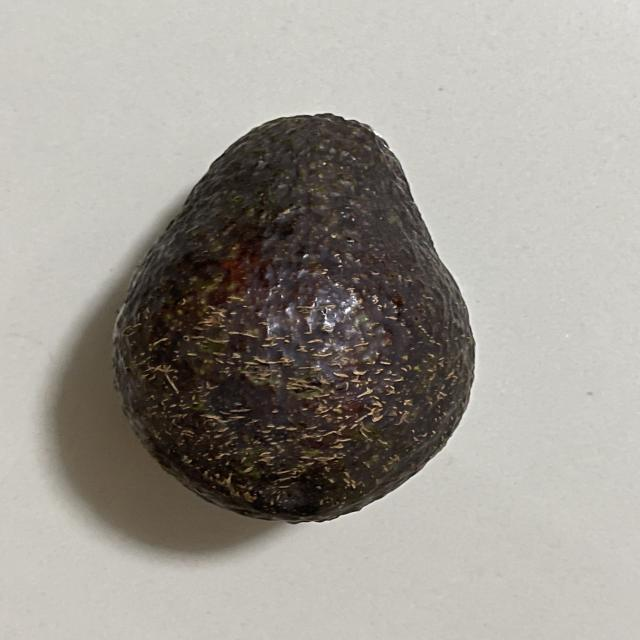Level2: (101, 105, 486, 528)
